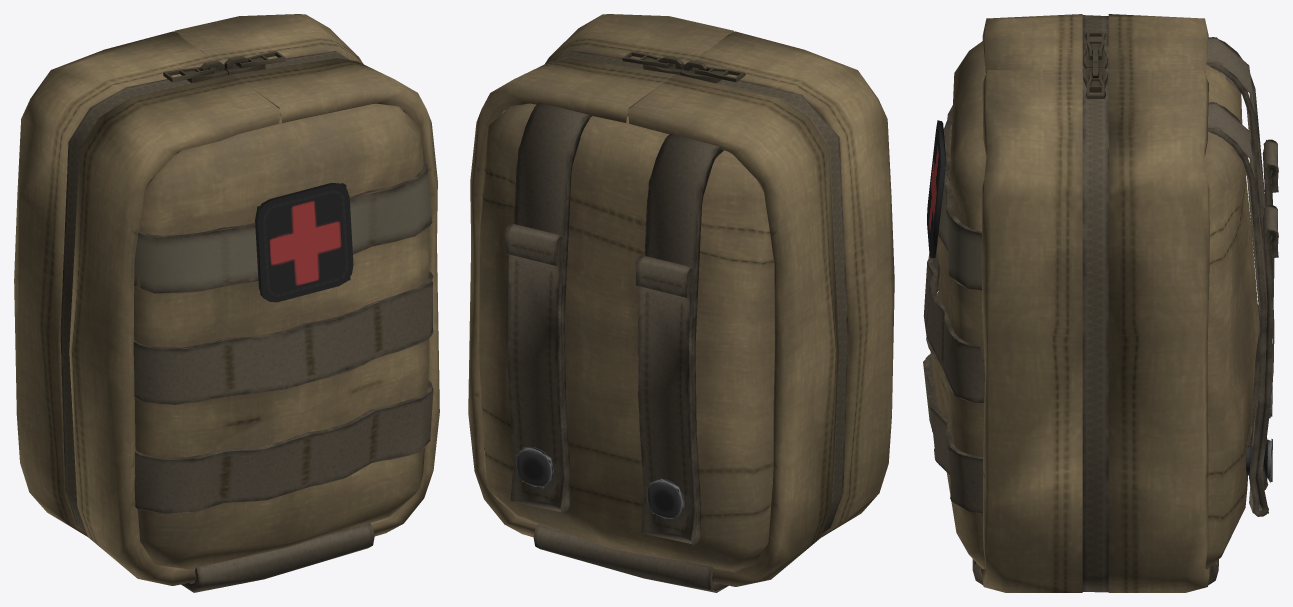
The model's file is medkit.glb.
3 renders of one model, left to right at view 1: azimuth 30°, elevation 25°; view 2: azimuth 150°, elevation 25°; view 3: azimuth 270°, elevation 25°, orthographic. The views are drawn at different scales.
Visible parts, largest first — view 1: AIDKIT_OLIVE_AIDKIT_OLIVE_0; view 2: AIDKIT_OLIVE_AIDKIT_OLIVE_0; view 3: AIDKIT_OLIVE_AIDKIT_OLIVE_0.
Part boxes in pixels (x1,y1,x2,y2): AIDKIT_OLIVE_AIDKIT_OLIVE_0: (14, 14, 439, 592); AIDKIT_OLIVE_AIDKIT_OLIVE_0: (468, 14, 894, 592); AIDKIT_OLIVE_AIDKIT_OLIVE_0: (923, 14, 1278, 592).
Bounding box in the file's own units: 0.2005 × 0.2795 × 0.183.
1 material, 1 textured.
